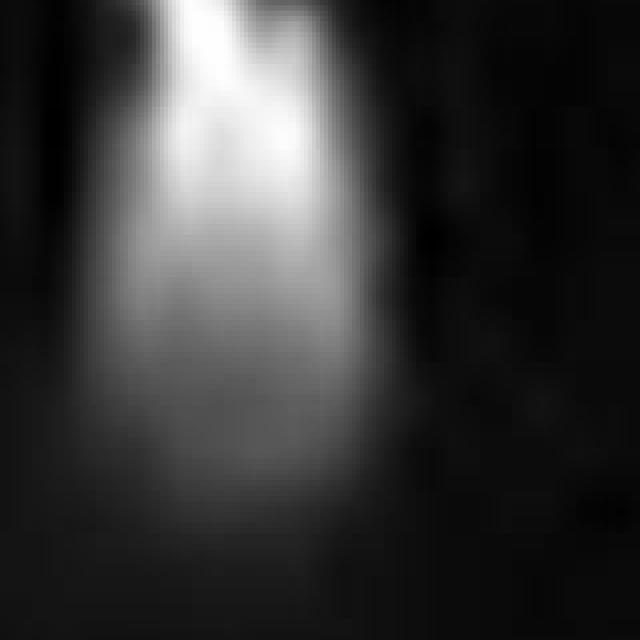person: (77, 1, 389, 534)
